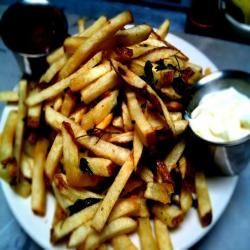fries: (17, 27, 190, 240)
ketchup: (3, 1, 72, 84)
